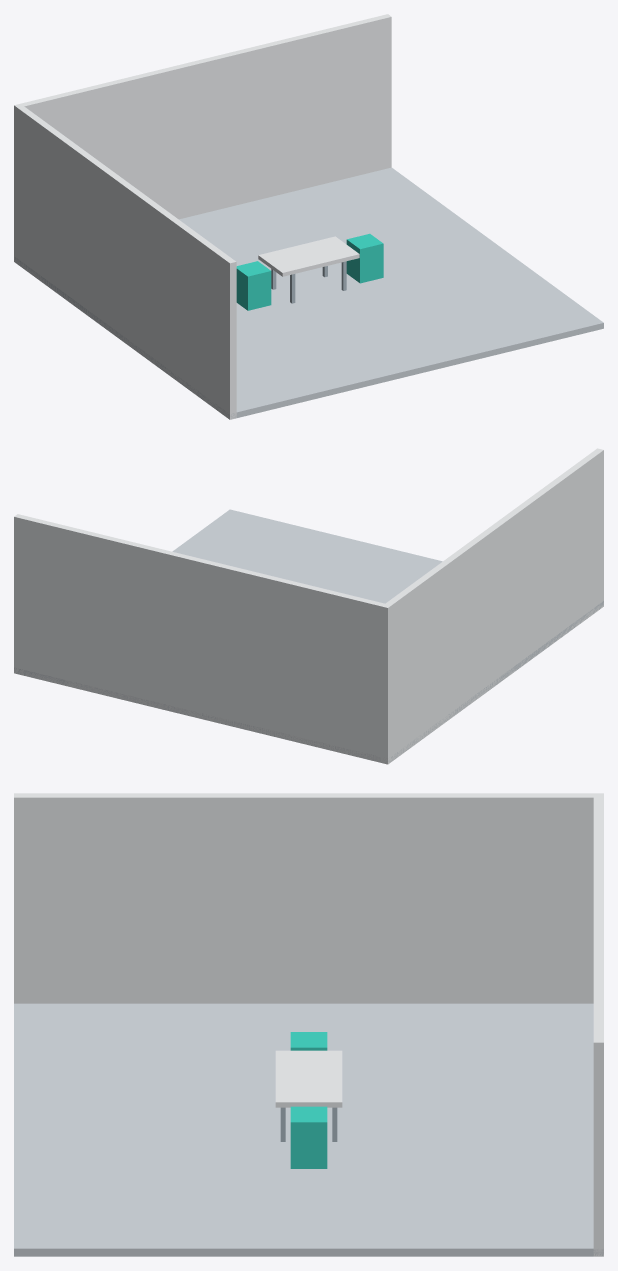
3 renders of one model, top to bottom at view 1: azimuth 30°, elevation 25°; view 2: azimuth 150°, elevation 25°; view 3: azimuth 270°, elevation 25°, orthographic. The views are drawn at different scales.
Visible parts, largest first — view 1: Exhibition Booth Concept; view 2: Exhibition Booth Concept; view 3: Exhibition Booth Concept.
Part boxes in pixels (x1=…): Exhibition Booth Concept: x1=14, y1=14, x2=603, y2=419; Exhibition Booth Concept: x1=14, y1=448, x2=603, y2=764; Exhibition Booth Concept: x1=14, y1=793, x2=603, y2=1256.
Bounding box in the file's own units: 8 × 3.2 × 8.
